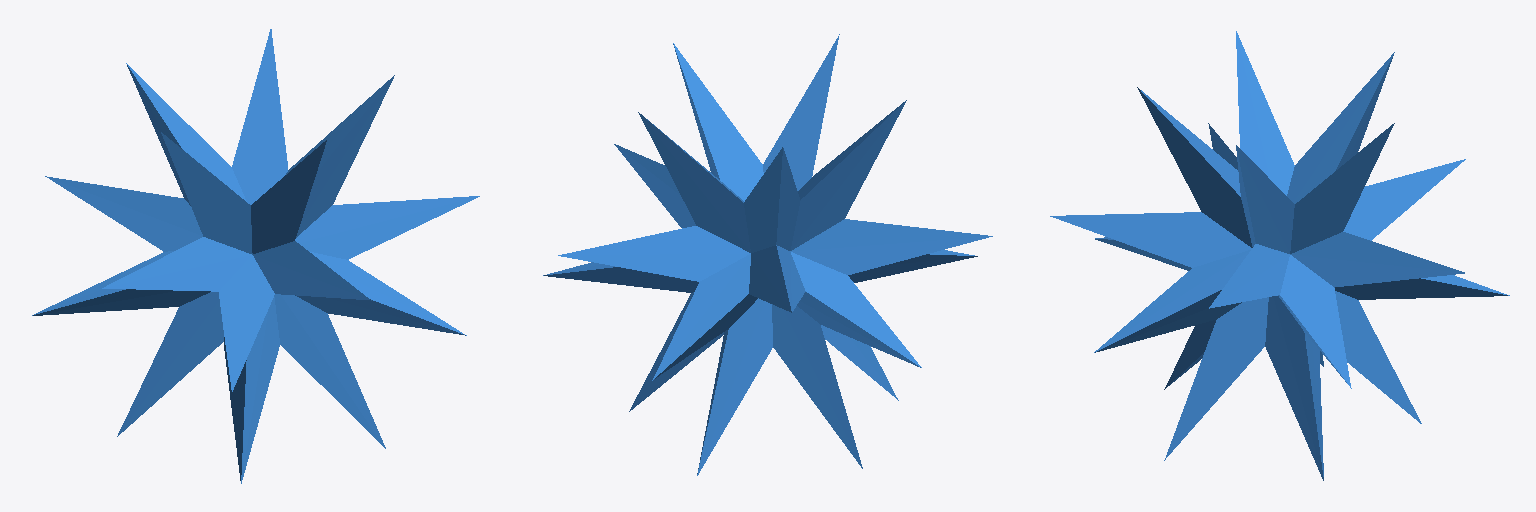
The model's file is dode_kites.obj.
The picture shows the model from 3 angles: view 1: azimuth 30°, elevation 25°; view 2: azimuth 150°, elevation 25°; view 3: azimuth 270°, elevation 25°; orthographic projection.
Size of the model in its own units: 11.24 by 9.56 by 11.82.